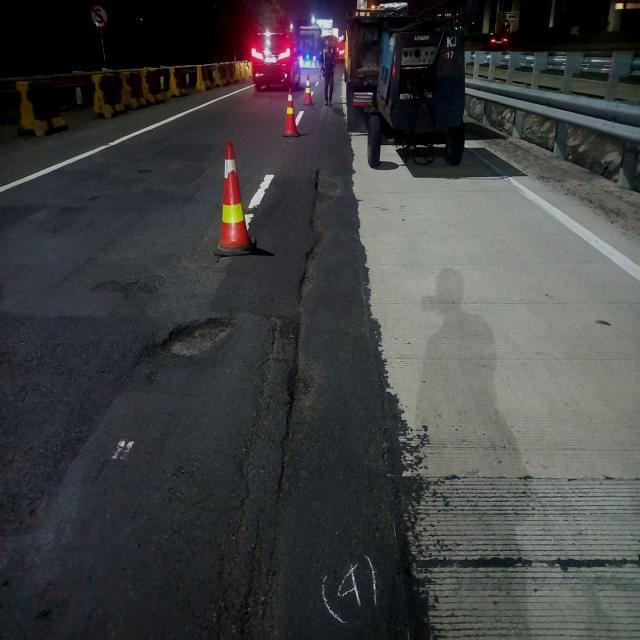Buraco: (293, 166, 346, 308), (276, 350, 326, 465), (148, 315, 245, 361), (132, 166, 156, 177)
